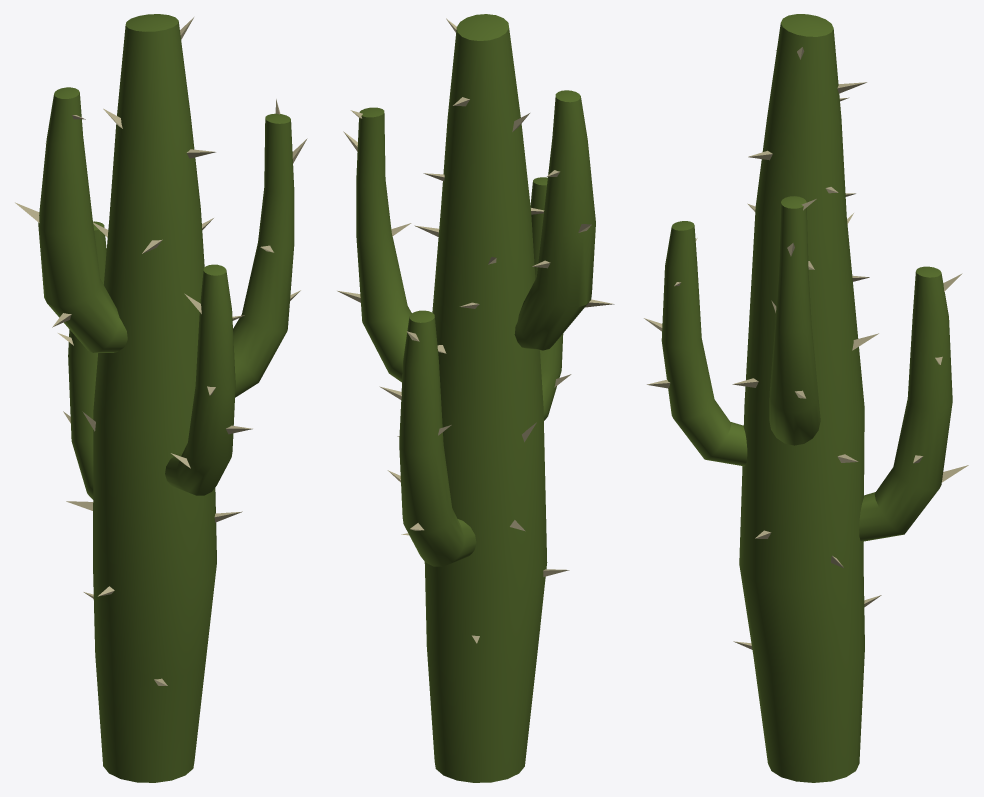
Rendered from Sm_CactusVer3L.fbx.
3 views of the same model, side by side, from view 1: azimuth 30°, elevation 25°; view 2: azimuth 150°, elevation 25°; view 3: azimuth 270°, elevation 25° (orthographic).
Parts seen in each view (by area): view 1: Sm_CactusVer3L; view 2: Sm_CactusVer3L; view 3: Sm_CactusVer3L.
Part boxes in pixels (x1,y1,x2,y2): Sm_CactusVer3L: [15, 14, 307, 782]; Sm_CactusVer3L: [337, 14, 614, 782]; Sm_CactusVer3L: [644, 14, 968, 782].
Bounding box in the file's own units: 68.14 × 178 × 70.96.
